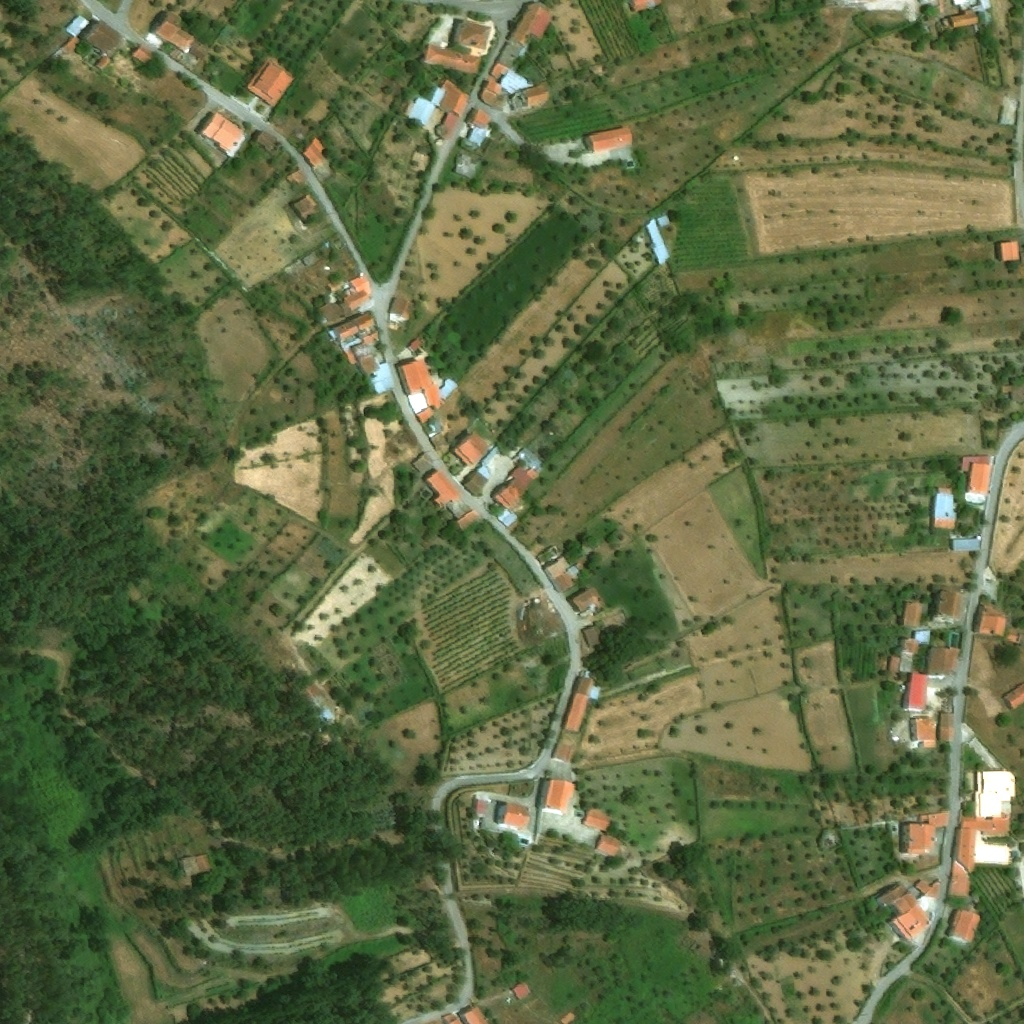0 no-damage: (946, 817, 1009, 898), (327, 311, 382, 376), (477, 62, 533, 111), (246, 58, 295, 106), (561, 676, 599, 731), (892, 891, 931, 941), (907, 810, 949, 854), (511, 2, 554, 44), (493, 467, 534, 509), (402, 359, 439, 405), (979, 770, 1015, 816), (201, 113, 244, 151), (426, 44, 480, 74), (458, 109, 493, 152), (543, 555, 581, 592), (583, 125, 632, 152), (80, 19, 120, 52), (899, 629, 930, 671), (453, 430, 490, 465), (426, 469, 461, 506), (155, 20, 194, 50), (440, 79, 469, 116), (544, 779, 575, 812), (927, 647, 959, 678), (973, 605, 1006, 635), (933, 487, 956, 530), (903, 671, 927, 712), (571, 586, 608, 612), (952, 910, 981, 943), (345, 274, 370, 310), (458, 22, 490, 49), (407, 97, 436, 126), (292, 192, 319, 221), (180, 853, 212, 877), (582, 806, 612, 831), (968, 463, 990, 496), (434, 112, 460, 139), (503, 802, 531, 827), (303, 137, 326, 167), (937, 591, 963, 617), (462, 472, 488, 498), (596, 831, 623, 856), (454, 154, 479, 181), (523, 84, 548, 108), (915, 879, 943, 900), (285, 167, 311, 188), (550, 742, 574, 764), (916, 715, 937, 740), (1003, 683, 1023, 709), (463, 1006, 493, 1023), (937, 712, 954, 742), (413, 451, 436, 473), (389, 297, 414, 317), (904, 602, 922, 628), (457, 509, 479, 530), (580, 625, 602, 646), (359, 353, 381, 374), (68, 14, 91, 34), (950, 10, 978, 26), (961, 456, 990, 471), (133, 44, 154, 64), (320, 302, 343, 320), (1000, 383, 1023, 401), (257, 130, 277, 148), (497, 509, 517, 527), (513, 981, 531, 999), (1000, 241, 1018, 259), (431, 87, 447, 107), (952, 539, 978, 551), (493, 801, 506, 823), (190, 41, 207, 57), (326, 277, 344, 292), (145, 32, 162, 47), (303, 250, 318, 266), (417, 407, 433, 421), (999, 111, 1014, 125), (475, 142, 488, 158), (95, 56, 110, 69), (408, 338, 423, 351), (888, 656, 899, 673), (476, 799, 486, 815), (170, 48, 183, 60)
4 un-classified: (631, 0, 656, 11), (953, 0, 976, 10)
